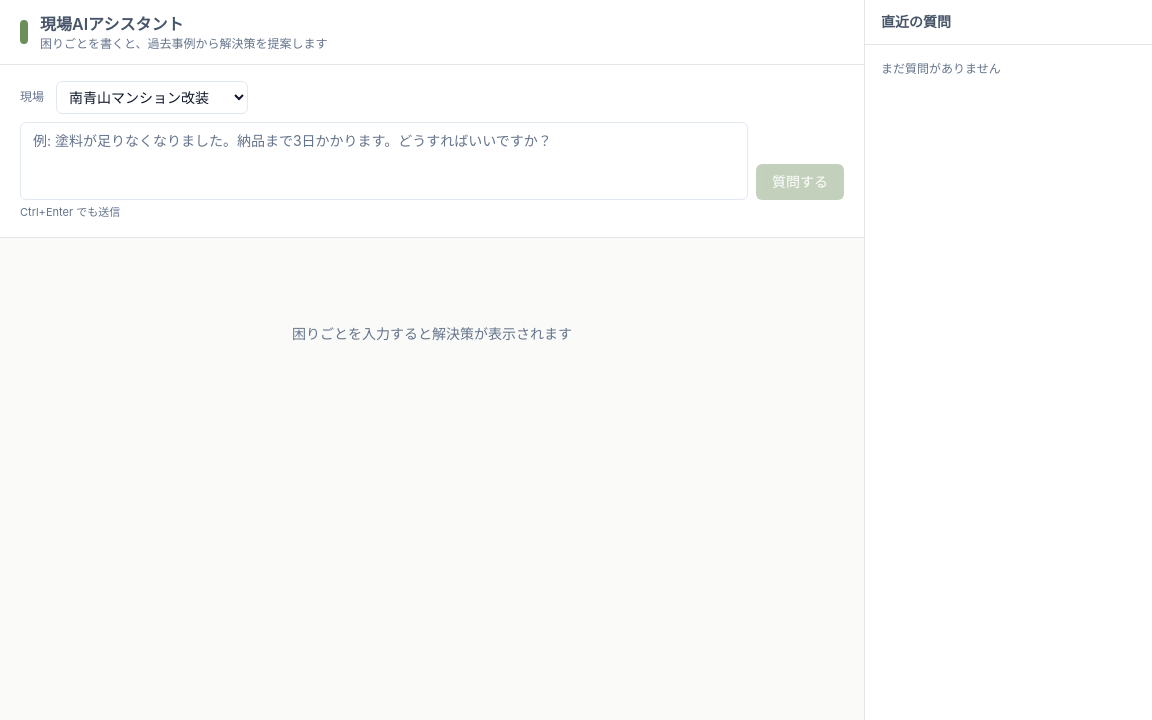
Test: SiteAssistantPage › 送信後に入力欄がクリアされる
Type "危険な状況" into the text box at (384, 161), box [20, 122, 748, 200]
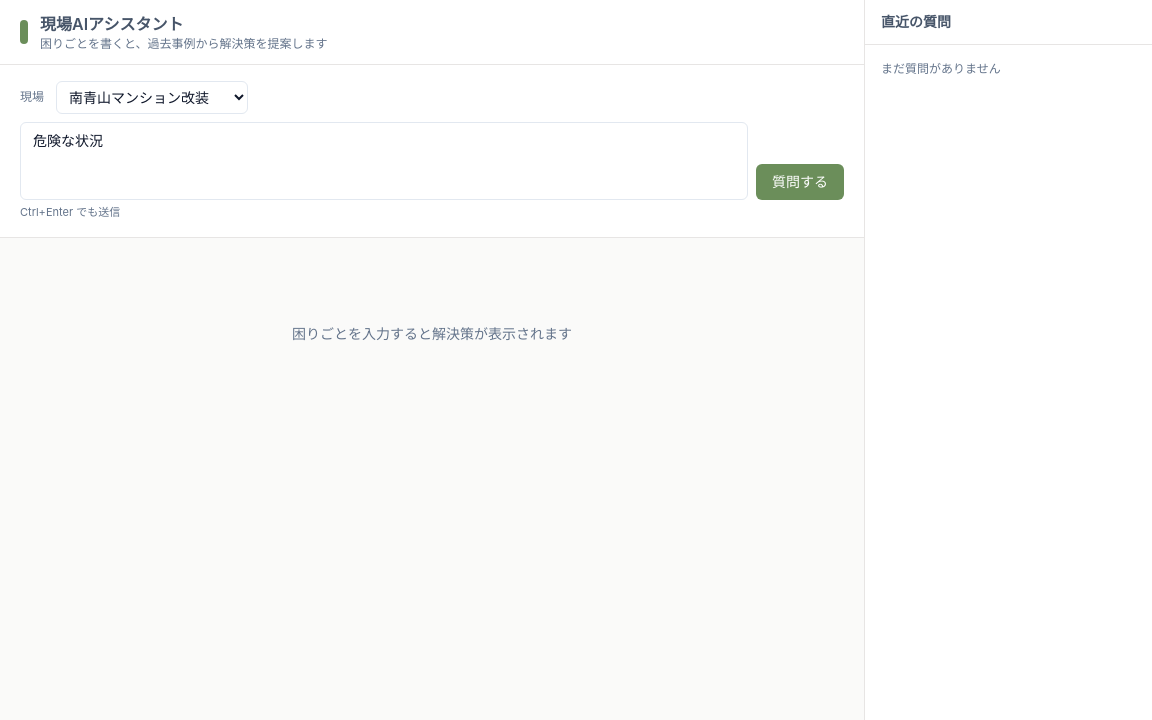
Click the button "質問する" at (800, 182), box [756, 164, 844, 200]
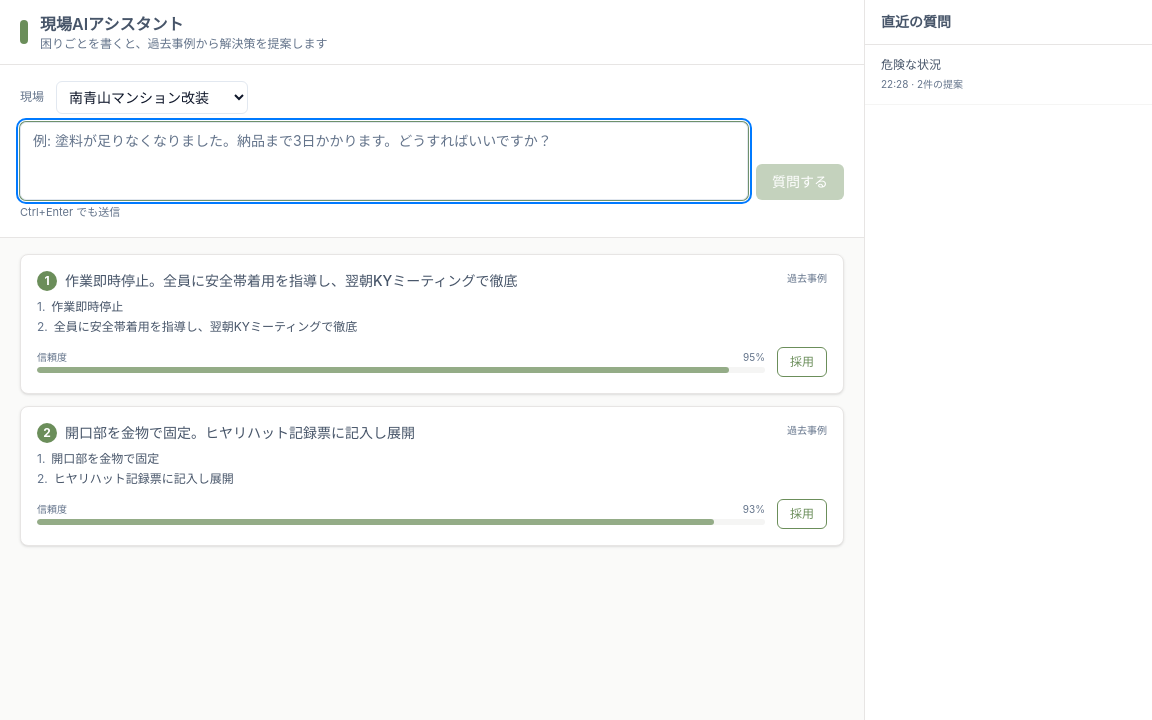
Result: the text box is empty at [20, 122, 748, 200]
